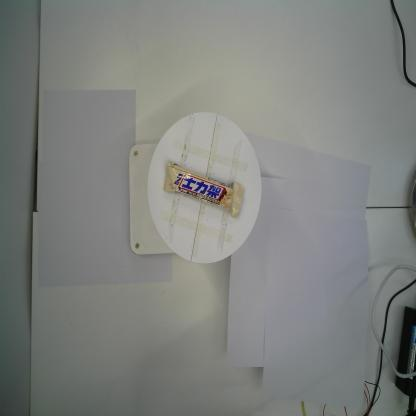Chocolate: (162, 158, 246, 221)
